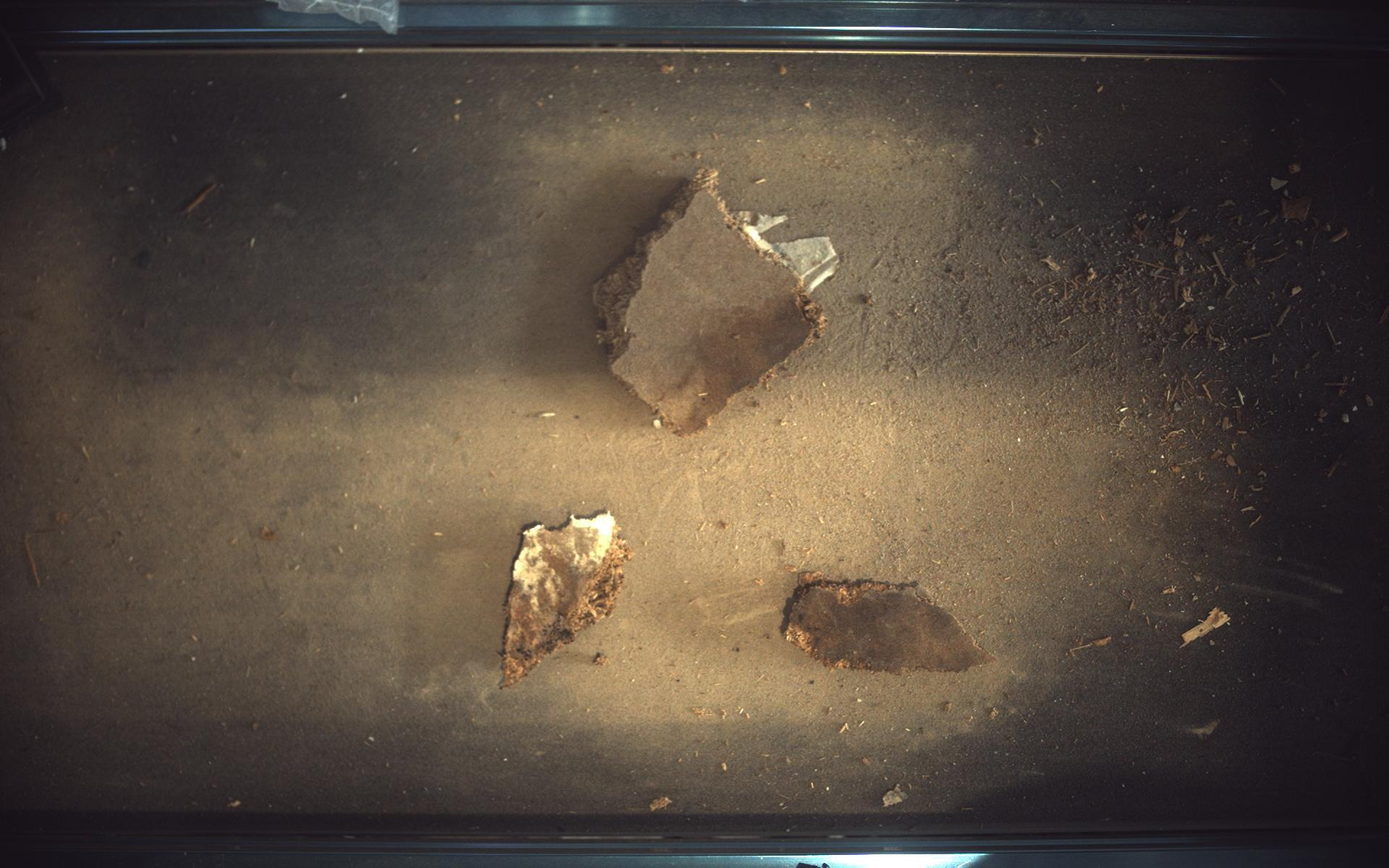wood: (594, 167, 841, 434), (501, 514, 634, 689), (784, 573, 996, 675)
